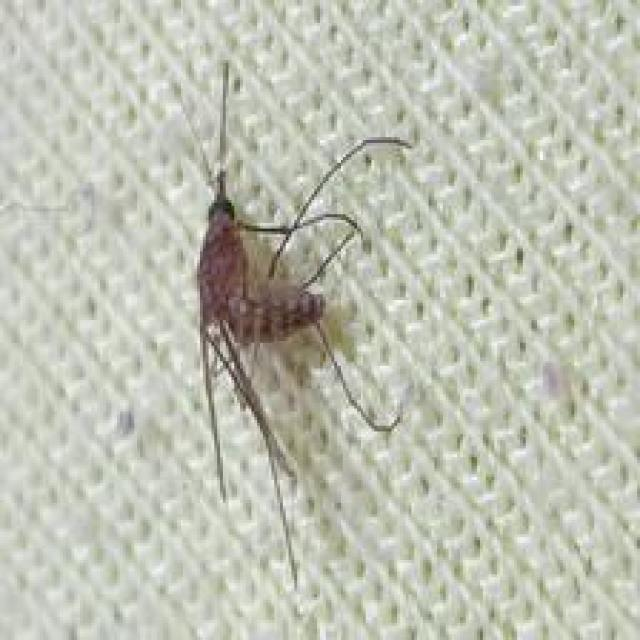Culex: (172, 57, 414, 592)
